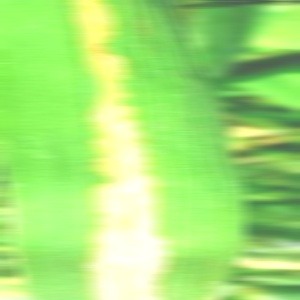Leaf_Blast: (19, 1, 233, 300)
